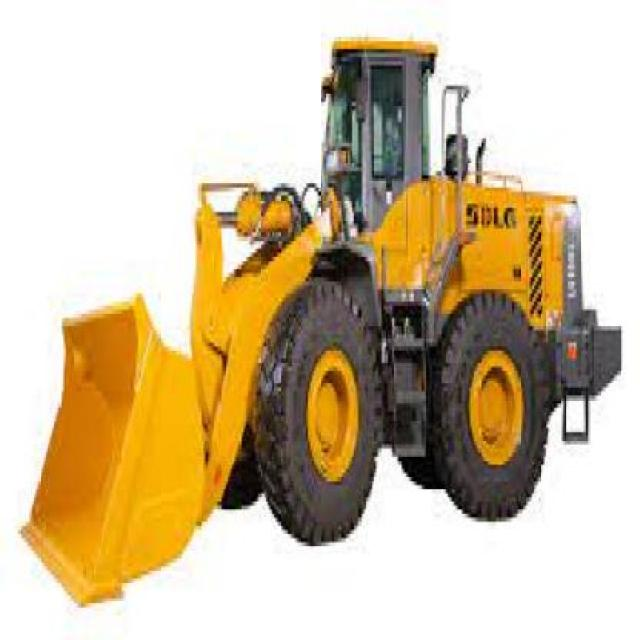buldozerpayloadergrader: (15, 28, 633, 612)
